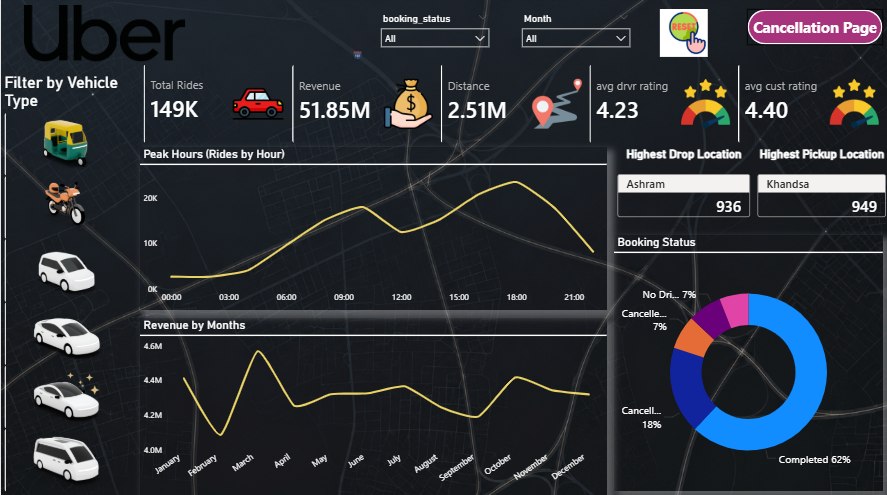

What the dashboard file says about the page in this screenshot:
{"tool":"powerbi","page":{"name":"Overview","canvas":[1280,720],"ordinal":0},"visuals":[{"type":"image","box":[23,11.5,252,80.6],"z":0},{"type":"lineChart","title":"Revenue by Months","fields":{"Category":["iics data.date.Variation.Date Hierarchy.Month"],"Y":["Sum(iics data.booking_value)"]},"box":[200.2,462.2,672.5,257.8],"z":1000},{"type":"cardVisual","fields":{"Data":["iics data.Total Rides","iics data.Revenue","iics data.Distance","iics data.avg driver rating","iics data.avg cust rating"]},"box":[200.2,92.2,1080,123.8],"z":2000},{"type":"cardVisual","title":"Highest Pickup Location","fields":{"Rows":["iics data.pickup_location"],"Data":["CountNonNull(iics data.pickup_location)"]},"box":[1084.3,216,195.8,126.7],"z":3000},{"type":"cardVisual","title":"Highest Drop Location","fields":{"Rows":["iics data.drop_location"],"Data":["CountNonNull(iics data.drop_location)"]},"box":[882.7,216,201.6,126.7],"z":4000},{"type":"lineChart","title":"Peak Hours (Rides by Hour)","fields":{"Y":["iics data.Total Rides"],"Category":["iics data.time (bins)"]},"box":[200.2,216,672.5,234.7],"z":5000},{"type":"advancedSlicerVisual","title":"Filter by Vehicle Type","fields":{"Values":["images.Vehicle Type"]},"box":[0,109.4,185.8,610.6],"z":6000},{"type":"donutChart","title":"Booking Status ","fields":{"Category":["iics data.booking_status"],"Y":["CountNonNull(iics data.booking_status)"]},"box":[882.7,342.7,387.4,368.6],"z":7000},{"type":"slicer","fields":{"Values":["iics data.date.Variation.Date Hierarchy.Month"]},"box":[740.2,17.3,175.7,69.1],"z":8000},{"type":"slicer","fields":{"Values":["iics data.booking_status"]},"box":[537.1,17.3,175.7,69.1],"z":9000},{"type":"image","box":[941.8,17.3,83.5,69.1],"z":10000},{"type":"shape","box":[1074.2,17.3,195.8,51.8],"z":10001}]}

Visuals, with their boxes in screenshot pixels (x1, y1, x2, y2), scaled from the page's 1280x720 canvas onto the 887x495 screenshot:
image: bbox=(16, 8, 191, 63)
"Revenue by Months" lineChart: bbox=(139, 318, 605, 494)
cardVisual - iics data.Total Rides x iics data.Revenue: bbox=(139, 63, 886, 148)
"Highest Pickup Location" cardVisual: bbox=(751, 148, 886, 236)
"Highest Drop Location" cardVisual: bbox=(612, 148, 751, 236)
"Peak Hours (Rides by Hour)" lineChart: bbox=(139, 148, 605, 310)
"Filter by Vehicle Type" advancedSlicerVisual: bbox=(0, 75, 129, 494)
"Booking Status " donutChart: bbox=(612, 236, 880, 489)
slicer - iics data.date.Variation.Date Hierarchy.Month: bbox=(513, 12, 635, 59)
slicer - iics data.booking_status: bbox=(372, 12, 494, 59)
image: bbox=(653, 12, 711, 59)
shape: bbox=(744, 12, 880, 48)
